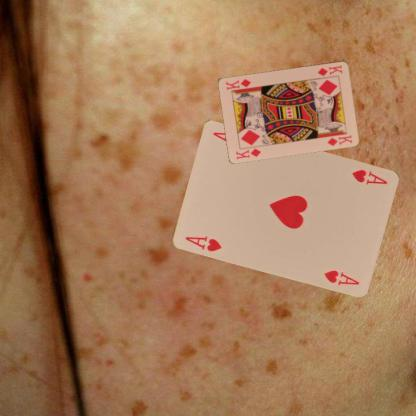Ah: (349, 166, 389, 186), (183, 233, 223, 252)
Kd: (315, 63, 344, 78), (233, 146, 262, 160)
